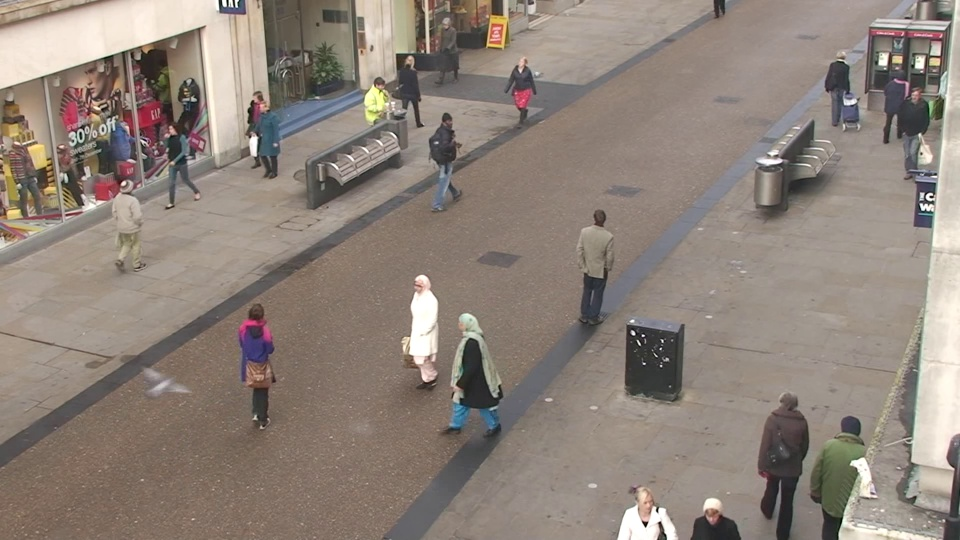pedestrian: (755, 379, 815, 540), (814, 403, 878, 540), (234, 294, 289, 434), (443, 306, 491, 451), (402, 267, 449, 402), (108, 175, 155, 283), (580, 204, 618, 325), (613, 472, 675, 540), (892, 84, 935, 175), (678, 481, 742, 540), (159, 118, 198, 212), (875, 69, 915, 156), (432, 110, 464, 204), (250, 95, 284, 183), (243, 87, 276, 173), (822, 48, 856, 128), (366, 76, 397, 160), (396, 53, 424, 131), (510, 53, 537, 132), (435, 17, 459, 85)
